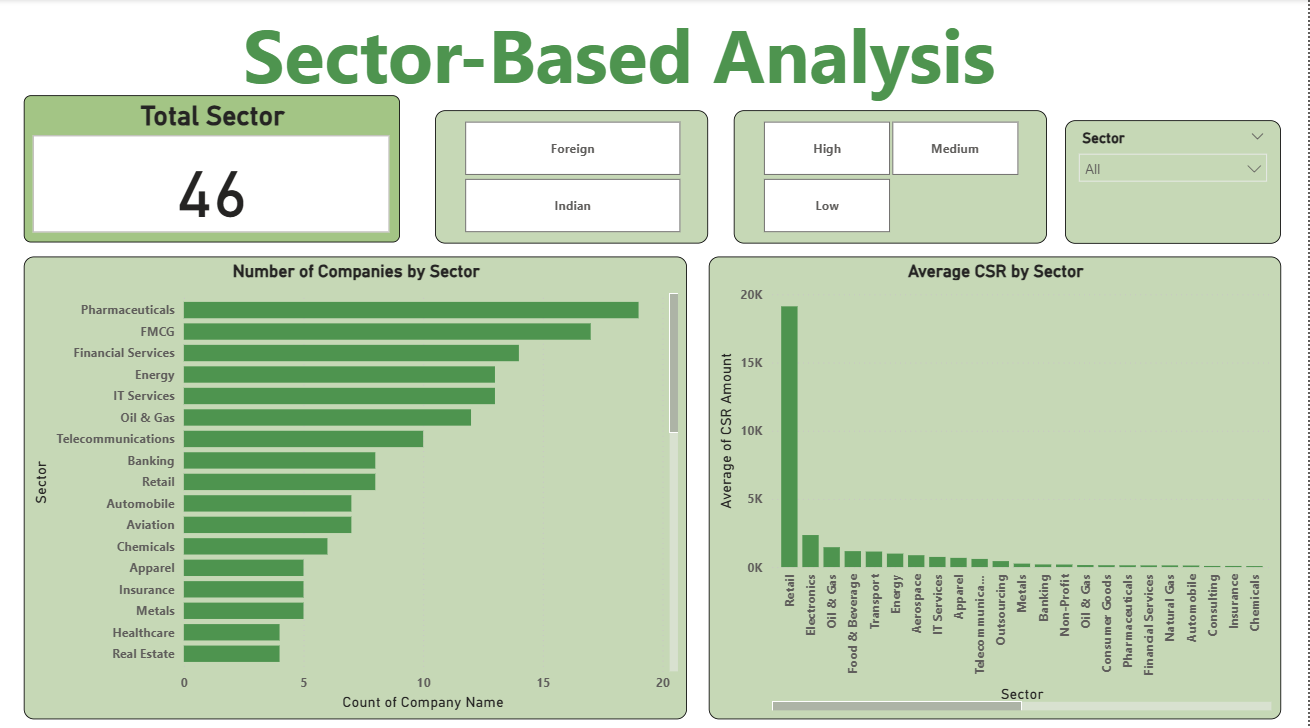

Layout of this report page (visuals, bound fields, positions):
{"tool":"powerbi","page":{"name":"Page 3","canvas":[1280,720],"ordinal":1},"visuals":[{"type":"textbox","box":[170.2,0,871.4,108.4],"z":0},{"type":"clusteredBarChart","title":"Number of Companies by Sector","fields":{"Category":["Sheet1.Sector"],"Y":["CountNonNull(Sheet1.Company Name)"]},"box":[23.3,252.5,649.1,452.8],"z":1000},{"type":"clusteredColumnChart","title":"Average CSR  by Sector","fields":{"Category":["Sheet1.Sector"],"Y":["Avg(Sheet1.CSR Amount)"]},"box":[693,252.5,559.9,452.8],"z":2000},{"type":"slicer","fields":{"Values":["Sheet1.Funding_Category"]},"box":[717.7,108.4,306,130.4],"z":3000},{"type":"slicer","fields":{"Values":["Sheet1.Sector"]},"box":[1041.5,118,211.3,120.8],"z":4000},{"type":"slicer","fields":{"Values":["Sheet1.Company_Type"]},"box":[425.4,108.4,267.6,130.4],"z":5000},{"type":"cardVisual","title":"Total Sector","fields":{"Data":["Count(Sheet1.Sector)"]},"box":[23.3,94.7,367.8,144.1],"z":6000}]}

Visuals, with their boxes in screenshot pixels (x1, y1, x2, y2), scaled from the page's 1280x720 canvas onto the 1310x728 screenshot:
textbox: x1=174, y1=0, x2=1066, y2=110
"Number of Companies by Sector" clusteredBarChart: x1=24, y1=255, x2=688, y2=713
"Average CSR  by Sector" clusteredColumnChart: x1=709, y1=255, x2=1282, y2=713
slicer - Sheet1.Funding_Category: x1=735, y1=110, x2=1048, y2=241
slicer - Sheet1.Sector: x1=1066, y1=119, x2=1282, y2=241
slicer - Sheet1.Company_Type: x1=435, y1=110, x2=709, y2=241
"Total Sector" cardVisual: x1=24, y1=96, x2=400, y2=241
